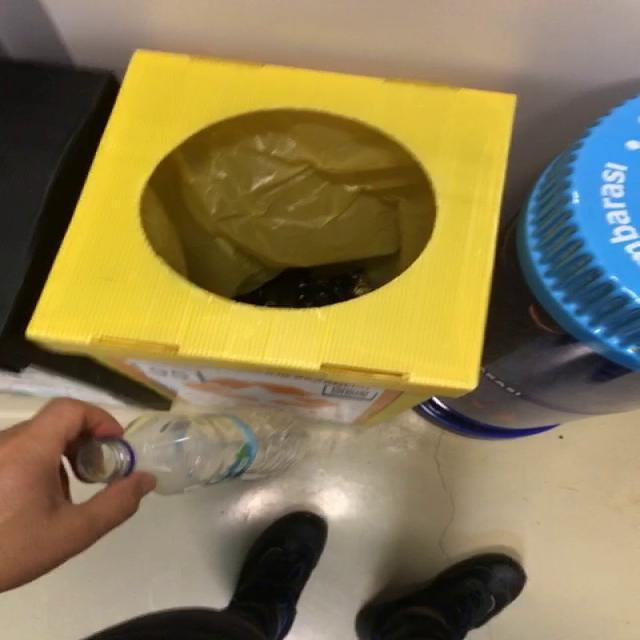Plastic: (68, 412, 308, 496)
